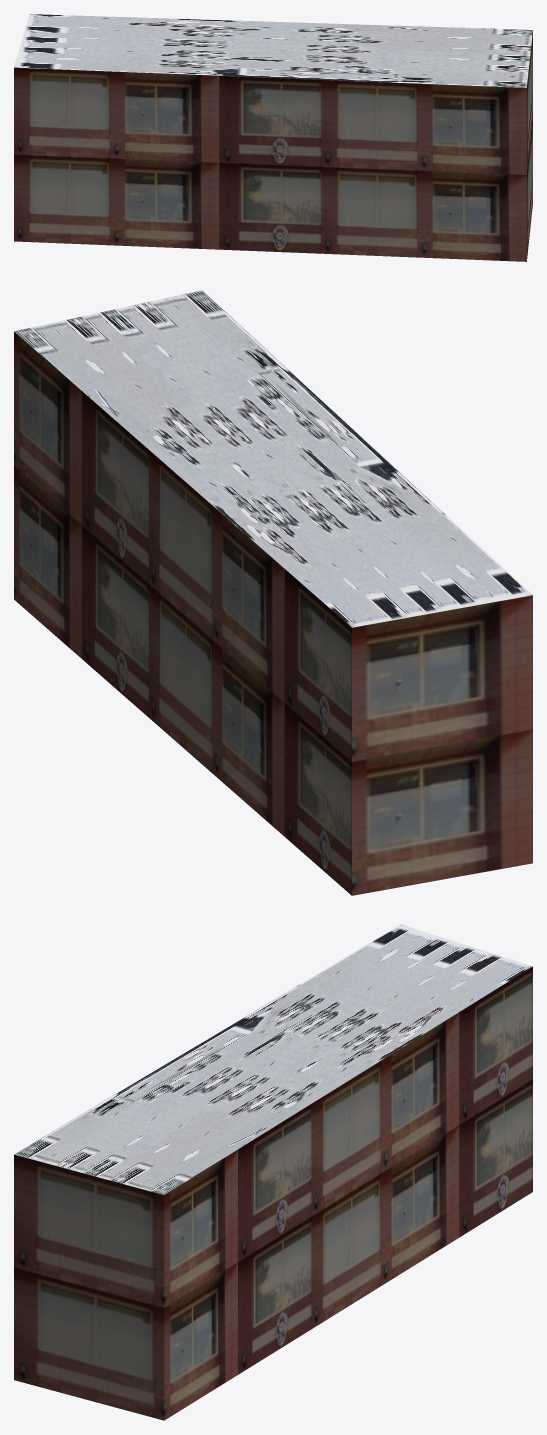
The model's file is ResTex__2217.fbx.
3 views of the same model, one above another, from view 1: azimuth 30°, elevation 25°; view 2: azimuth 150°, elevation 25°; view 3: azimuth 270°, elevation 25° (orthographic). The views are drawn at different scales.
Parts seen in each view (by area): view 1: CityEngineMaterial_13_m, CityEngineMaterial_8_m; view 2: CityEngineMaterial_13_m, CityEngineMaterial_8_m; view 3: CityEngineMaterial_13_m, CityEngineMaterial_8_m.
Part boxes in pixels (bbox=[...]): CityEngineMaterial_13_m: bbox=[14, 32, 532, 261]; CityEngineMaterial_8_m: bbox=[14, 14, 532, 87]; CityEngineMaterial_13_m: bbox=[14, 331, 532, 895]; CityEngineMaterial_8_m: bbox=[14, 290, 532, 627]; CityEngineMaterial_13_m: bbox=[14, 966, 532, 1420]; CityEngineMaterial_8_m: bbox=[14, 924, 532, 1194].
Bounding box in the file's own units: 15.45 × 6 × 12.51.
Materials: 2 (2 with a texture image).
